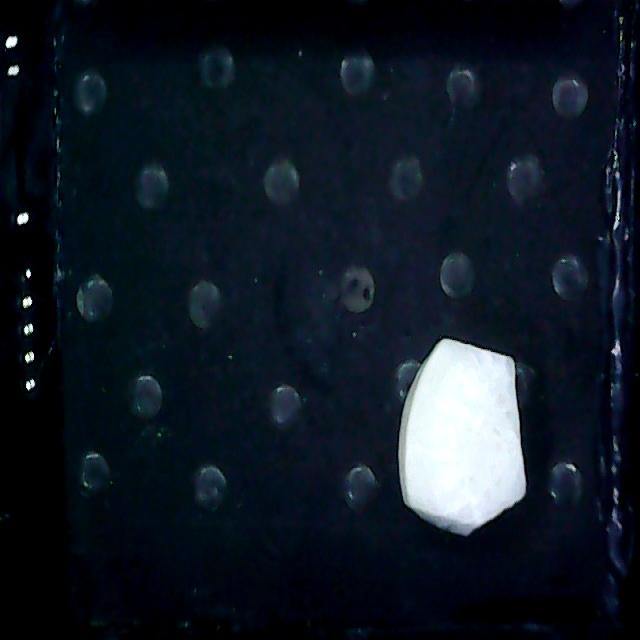-Kitchen waste - white radish-: (400, 339, 529, 542)
